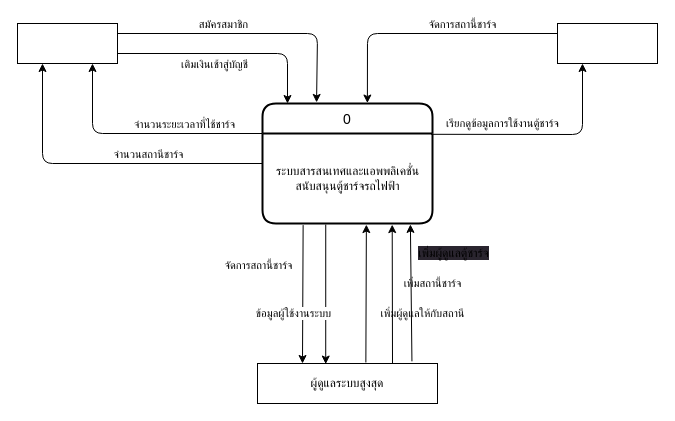
Some shapes in this 675 by 421 pixel diagram are drawn without their labels. The shapes that lost their labels are listed below. From the top down, each one's centre as x and y in pixels, then its label:
(x=67, y=43): ผู้ใช้งาน
(x=607, y=43): ผู้ดูแลตู้สถานีชาร์จ
